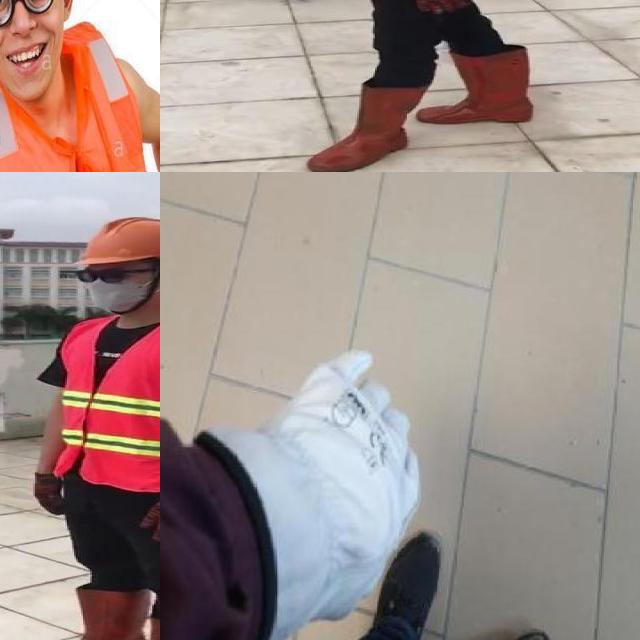BOOTS: (306, 85, 425, 172), (366, 526, 456, 640), (427, 49, 537, 124), (33, 588, 147, 640)
GLASS: (77, 266, 160, 285)
GLOVE: (207, 349, 410, 613), (34, 472, 67, 516), (404, 0, 471, 15), (140, 494, 160, 543)
HELMET: (74, 212, 160, 271)
VEST: (0, 25, 160, 172), (59, 313, 160, 491)
